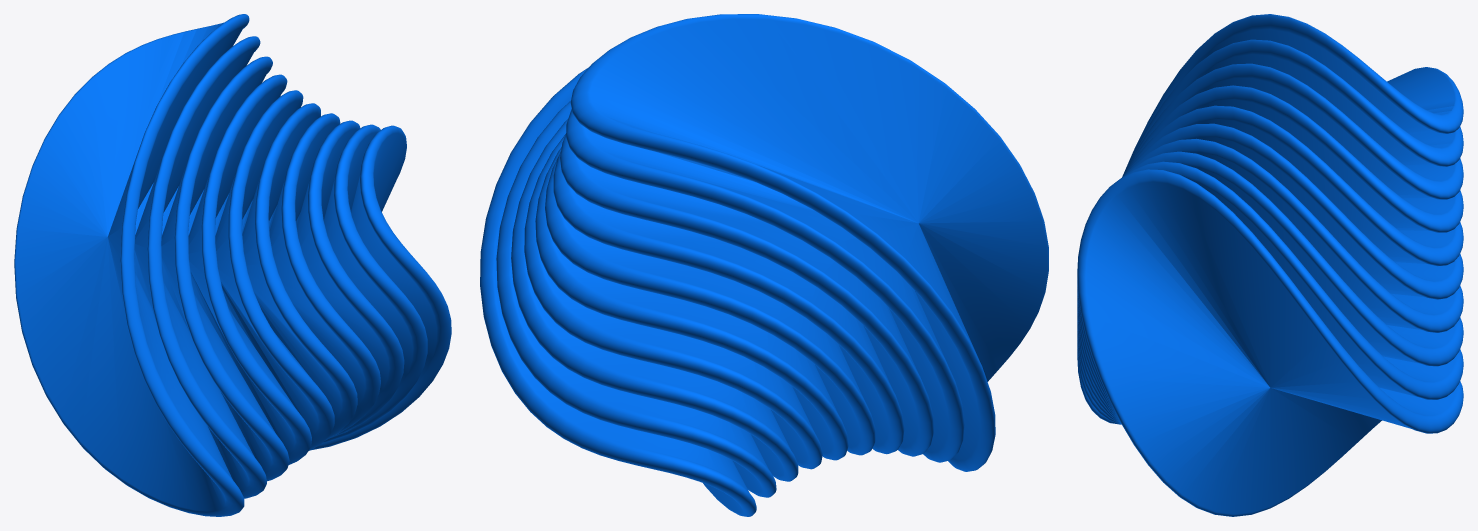
Rendered from tdb.obj.
The picture shows the model from 3 angles, left to right: view 1: azimuth 30°, elevation 25°; view 2: azimuth 150°, elevation 25°; view 3: azimuth 270°, elevation 25°; orthographic projection. The views are drawn at different scales.
Visible parts, largest first — view 1: 009_Cylinder, 008_Cylinder, 007_Cylinder, 006_Cylinder, 005_Cylinder, 004_Cylinder, 000_Cylinder, 003_Cylinder, 002_Cylinder, 001_Cylinder; view 2: 009_Cylinder, 008_Cylinder, 007_Cylinder, 006_Cylinder, 000_Cylinder, 005_Cylinder, 001_Cylinder, 004_Cylinder, 002_Cylinder, 003_Cylinder; view 3: 000_Cylinder, 009_Cylinder, 002_Cylinder, 001_Cylinder, 004_Cylinder, 008_Cylinder, 005_Cylinder, 007_Cylinder, 006_Cylinder, 003_Cylinder.
Boxes of the visible parts, left/top/right/bottom form: 009_Cylinder: left=14, top=14, right=249, bottom=516; 008_Cylinder: left=134, top=36, right=266, bottom=498; 007_Cylinder: left=161, top=56, right=289, bottom=481; 006_Cylinder: left=188, top=74, right=311, bottom=464; 005_Cylinder: left=215, top=90, right=334, bottom=450; 004_Cylinder: left=242, top=103, right=357, bottom=440; 000_Cylinder: left=311, top=125, right=451, bottom=450; 003_Cylinder: left=269, top=113, right=380, bottom=435; 002_Cylinder: left=296, top=120, right=404, bottom=437; 001_Cylinder: left=323, top=124, right=427, bottom=442; 009_Cylinder: left=570, top=14, right=1048, bottom=471; 008_Cylinder: left=566, top=109, right=964, bottom=462; 007_Cylinder: left=560, top=134, right=933, bottom=456; 006_Cylinder: left=553, top=151, right=904, bottom=454; 000_Cylinder: left=480, top=67, right=756, bottom=516; 005_Cylinder: left=545, top=158, right=875, bottom=455; 001_Cylinder: left=496, top=101, right=776, bottom=497; 004_Cylinder: left=535, top=147, right=848, bottom=460; 002_Cylinder: left=511, top=119, right=798, bottom=481; 003_Cylinder: left=524, top=133, right=822, bottom=469; 000_Cylinder: left=1077, top=169, right=1463, bottom=516; 009_Cylinder: left=1077, top=14, right=1463, bottom=424; 002_Cylinder: left=1077, top=151, right=1463, bottom=422; 001_Cylinder: left=1077, top=161, right=1463, bottom=419; 004_Cylinder: left=1077, top=123, right=1463, bottom=423; 008_Cylinder: left=1077, top=39, right=1463, bottom=424; 005_Cylinder: left=1077, top=105, right=1463, bottom=423; 007_Cylinder: left=1077, top=63, right=1463, bottom=423; 006_Cylinder: left=1077, top=85, right=1463, bottom=423; 003_Cylinder: left=1077, top=138, right=1463, bottom=422.
Bounding box in the file's own units: 127 × 129 × 100.
